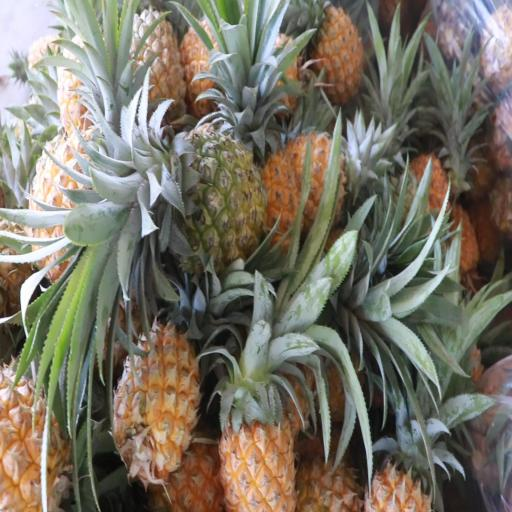Pineapple - v8 v1: (26, 128, 145, 284), (215, 328, 297, 512), (114, 312, 200, 486), (302, 4, 370, 108)
